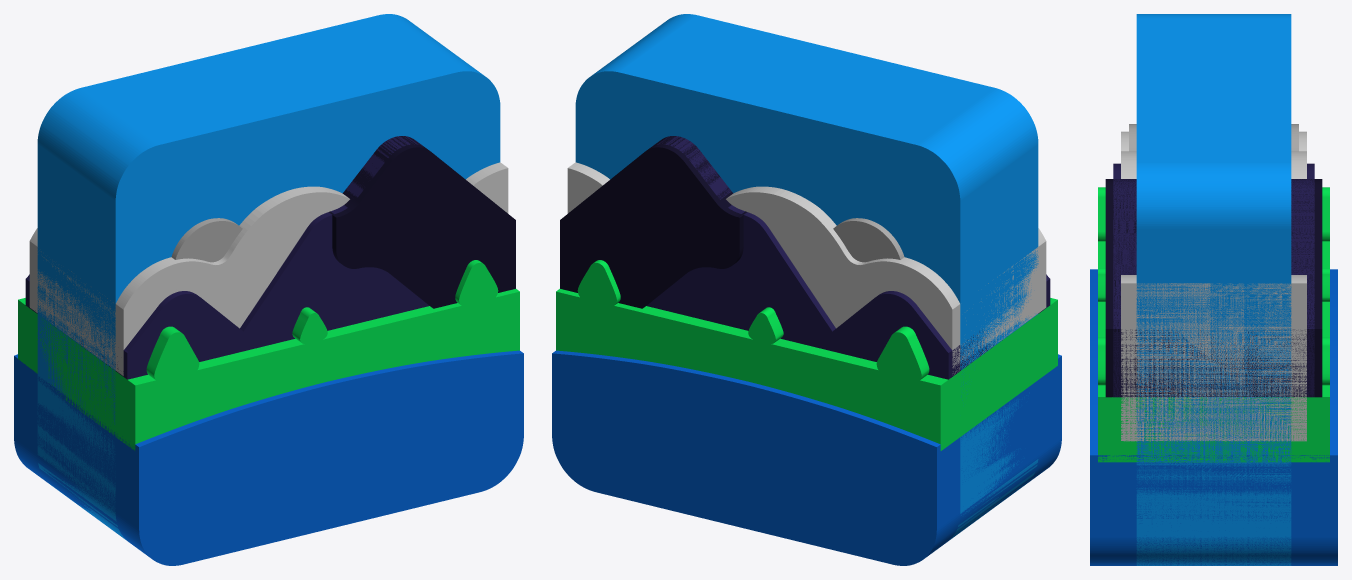
The picture shows the model from 3 angles, left to right: view 1: azimuth 30°, elevation 25°; view 2: azimuth 150°, elevation 25°; view 3: azimuth 270°, elevation 25°; orthographic projection.
Visible parts, largest first — view 1: U+1F3DE_layer00_obj00, U+1F3DE_layer06_obj00, U+1F3DE_layer05_obj00, U+1F3DE_layer04_obj00, U+1F3DE_layer02_obj00, U+1F3DE_layer03_obj00, U+1F3DE_layer01_obj00; view 2: U+1F3DE_layer00_obj00, U+1F3DE_layer06_obj00, U+1F3DE_layer05_obj00, U+1F3DE_layer04_obj00, U+1F3DE_layer03_obj00, U+1F3DE_layer02_obj00, U+1F3DE_layer01_obj00; view 3: U+1F3DE_layer00_obj00, U+1F3DE_layer02_obj00, U+1F3DE_layer06_obj00, U+1F3DE_layer05_obj00, U+1F3DE_layer03_obj00, U+1F3DE_layer04_obj00, U+1F3DE_layer01_obj00.
Part boxes in pixels (left/top/right/bottom): U+1F3DE_layer00_obj00: left=37, top=14, right=500, bottom=540; U+1F3DE_layer06_obj00: left=14, top=350, right=523, bottom=565; U+1F3DE_layer05_obj00: left=18, top=260, right=519, bottom=450; U+1F3DE_layer04_obj00: left=329, top=136, right=515, bottom=308; U+1F3DE_layer02_obj00: left=29, top=162, right=508, bottom=375; U+1F3DE_layer03_obj00: left=25, top=136, right=429, bottom=379; U+1F3DE_layer01_obj00: left=171, top=218, right=242, bottom=262; U+1F3DE_layer00_obj00: left=575, top=14, right=1038, bottom=540; U+1F3DE_layer06_obj00: left=552, top=350, right=1061, bottom=565; U+1F3DE_layer05_obj00: left=556, top=260, right=1057, bottom=450; U+1F3DE_layer04_obj00: left=560, top=136, right=746, bottom=308; U+1F3DE_layer03_obj00: left=646, top=136, right=1050, bottom=379; U+1F3DE_layer02_obj00: left=567, top=162, right=1046, bottom=374; U+1F3DE_layer01_obj00: left=833, top=218, right=904, bottom=262; U+1F3DE_layer00_obj00: left=1136, top=14, right=1291, bottom=565; U+1F3DE_layer02_obj00: left=1121, top=131, right=1306, bottom=441; U+1F3DE_layer06_obj00: left=1090, top=269, right=1337, bottom=565; U+1F3DE_layer05_obj00: left=1098, top=187, right=1329, bottom=462; U+1F3DE_layer03_obj00: left=1113, top=163, right=1314, bottom=397; U+1F3DE_layer04_obj00: left=1105, top=179, right=1322, bottom=397; U+1F3DE_layer01_obj00: left=1129, top=124, right=1298, bottom=151.
Bounding box in the file's own units: 0.5684 × 0.5683 × 0.32.
